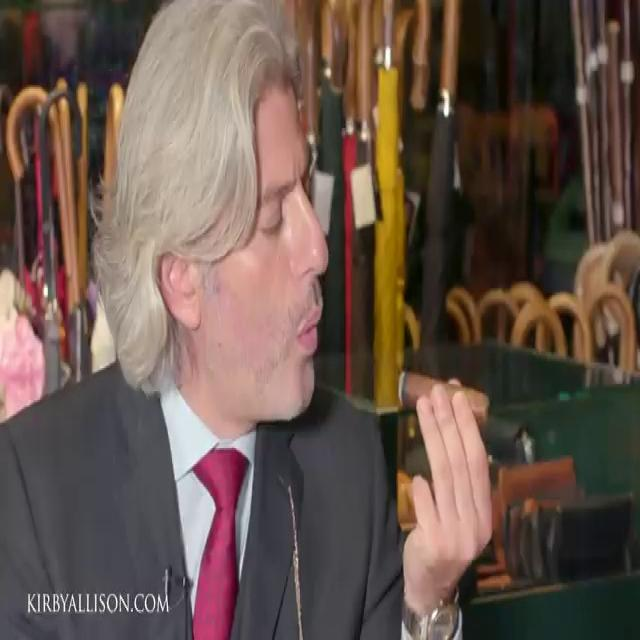Smooking: (399, 356, 506, 446)
